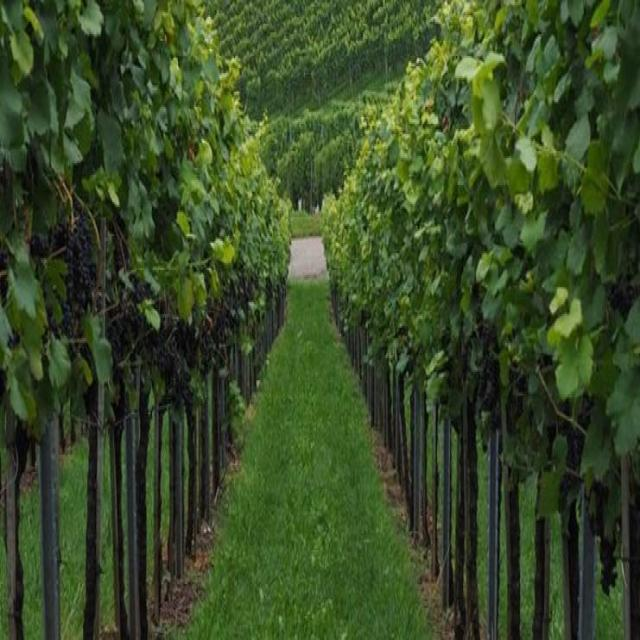row: (141, 235, 467, 640)
